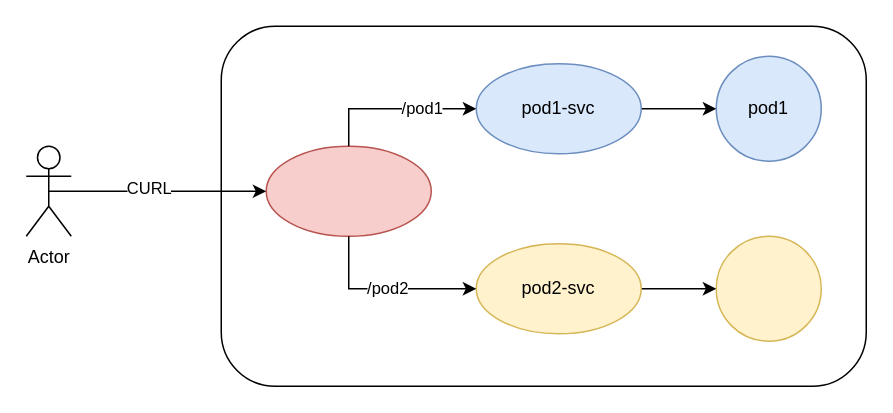
This 893x413 diagram has some shape labels left out. The centre of each missing label's shape, as x and y in pixels:
Ingress-ctl: the point at 348,190
pod2: the point at 768,288
